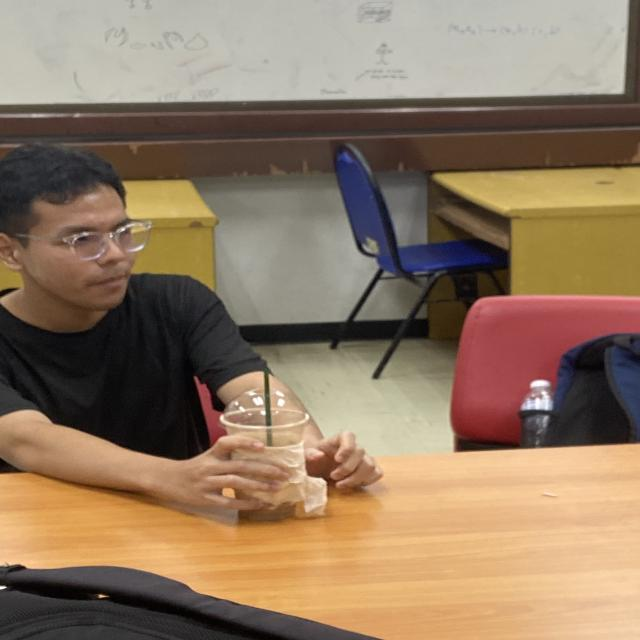cup: (216, 387, 316, 522)
